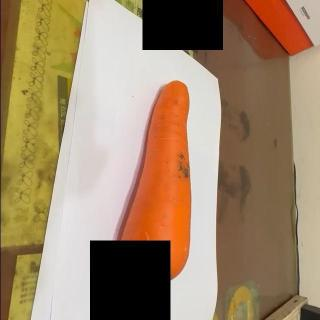carrot: (115, 80, 193, 304)
